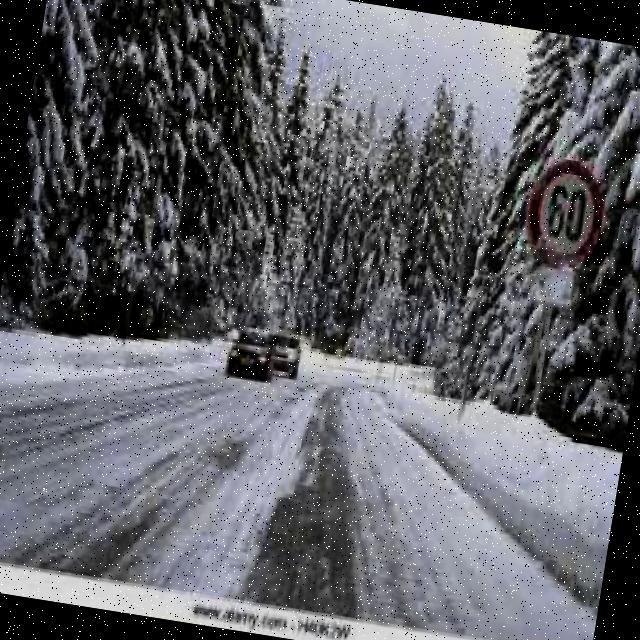Ograniczenie predkosci do 60: (518, 155, 616, 280)
